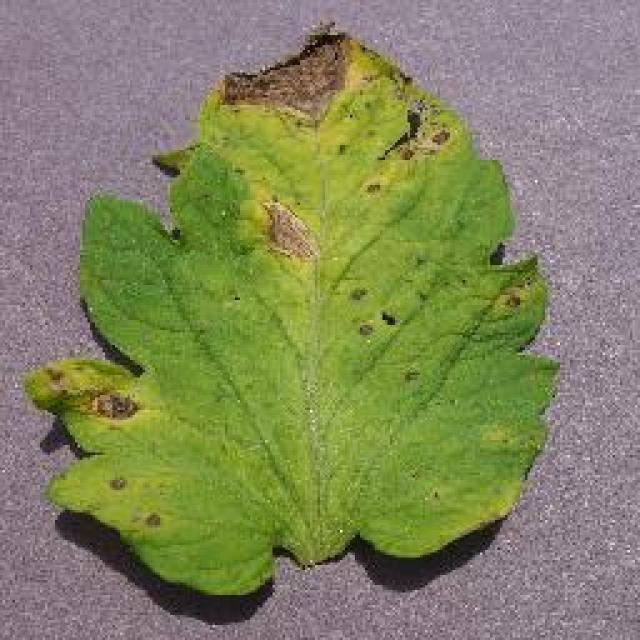Tomato___Septoria_leaf_spot: (25, 25, 555, 592)
